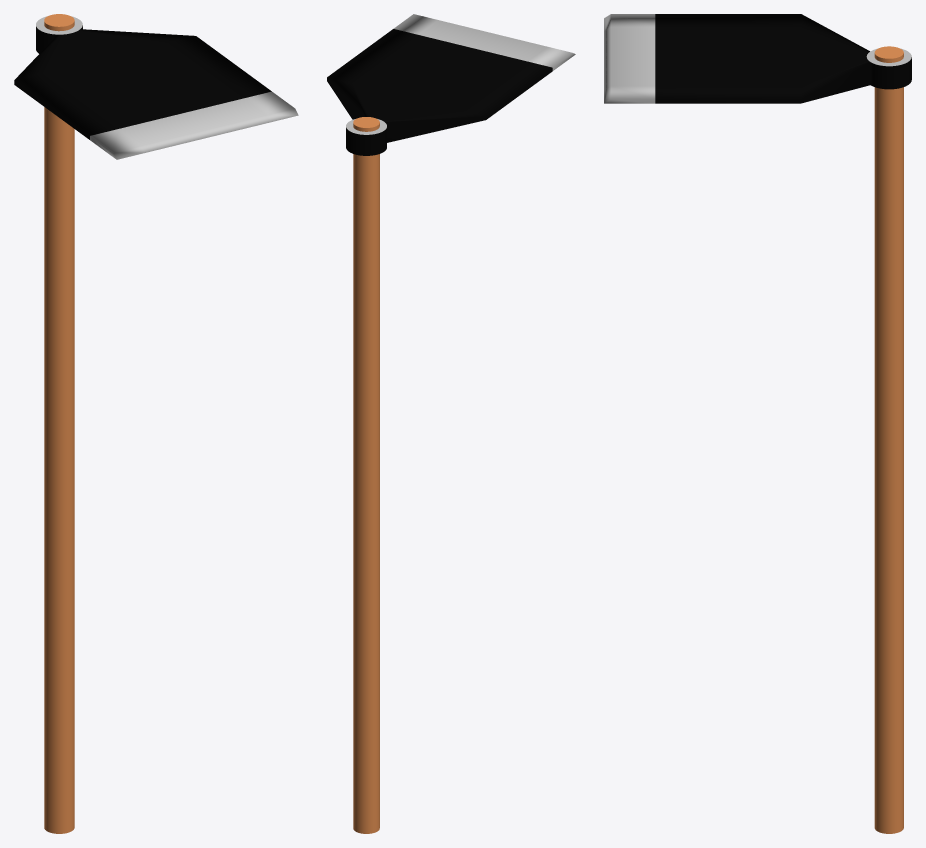
Rendered from Hoe.fbx.
The picture shows the model from 3 angles, left to right: view 1: azimuth 30°, elevation 25°; view 2: azimuth 150°, elevation 25°; view 3: azimuth 270°, elevation 25°; orthographic projection. The views are drawn at different scales.
Parts seen in each view (by area): view 1: Shovel.001; view 2: Shovel.001; view 3: Shovel.001.
Boxes of the visible parts, bbox=[...] form: Shovel.001: bbox=[14, 14, 298, 833]; Shovel.001: bbox=[327, 14, 575, 833]; Shovel.001: bbox=[604, 14, 911, 833].
Bounding box in the file's own units: 43.23 × 183 × 65.93.
